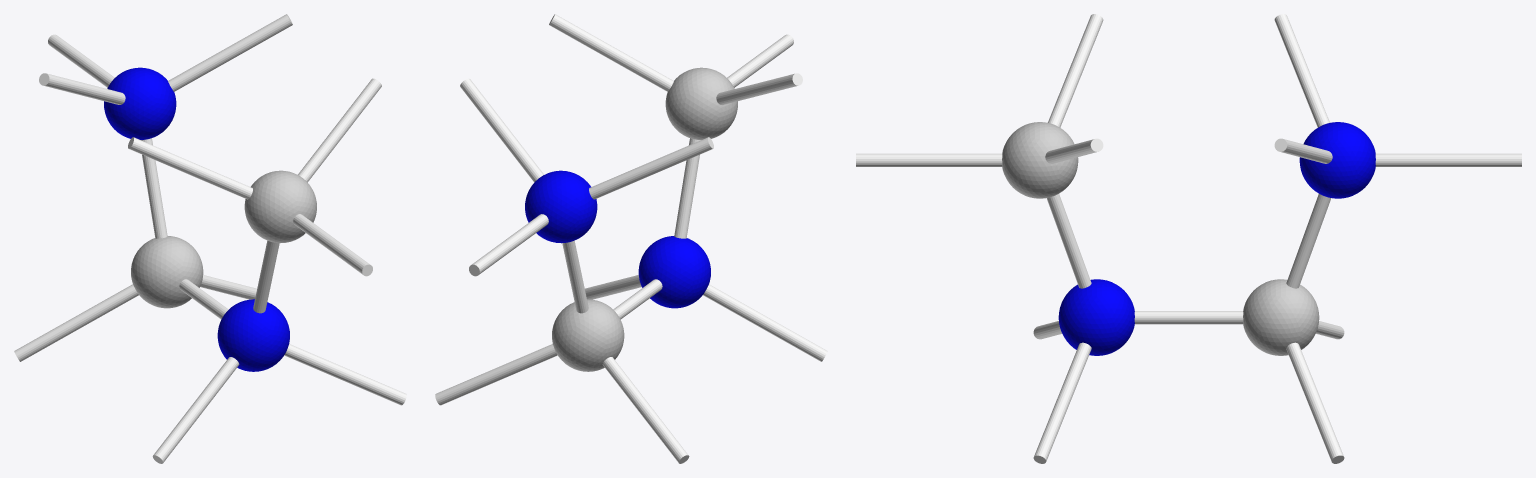
Rendered from structure_mpstyle.glb.
The picture shows the model from 3 angles, left to right: view 1: azimuth 30°, elevation 25°; view 2: azimuth 150°, elevation 25°; view 3: azimuth 270°, elevation 25°; orthographic projection. The views are drawn at different scales.
Parts seen in each view (by area): view 1: world; view 2: world; view 3: world.
Part boxes in pixels (x1,y1,x2,y2): world: (14,14,406,463); world: (435,14,827,463); world: (856,14,1521,463).
Bounding box in the file's own units: 3.21 × 3.74 × 6.93.
